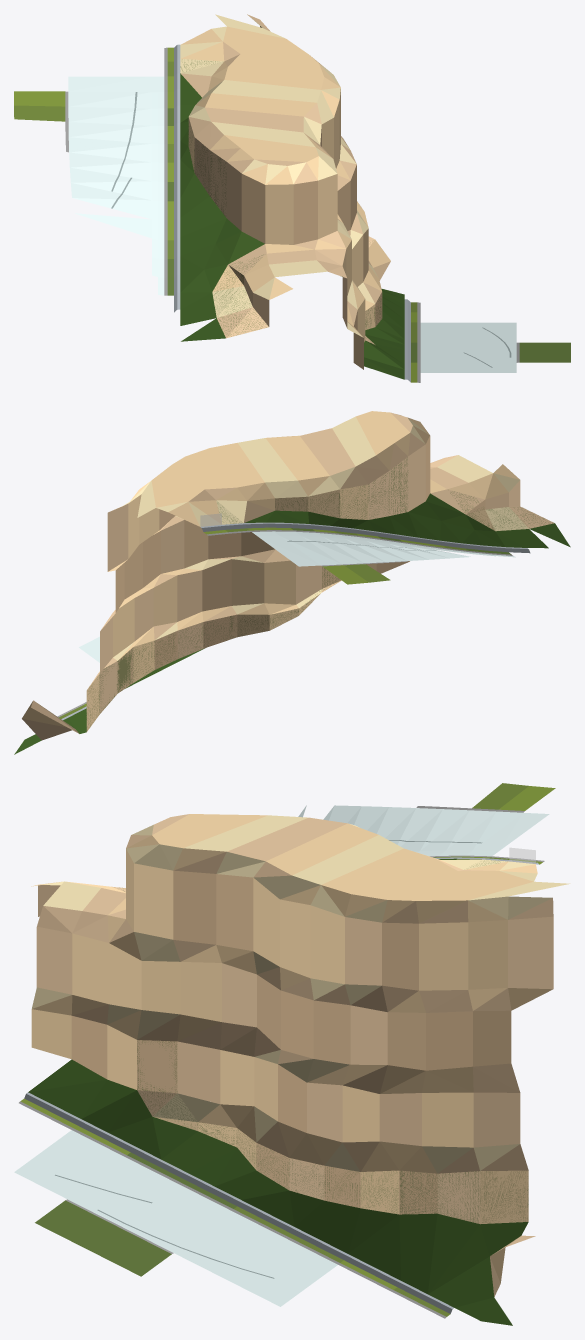
3 renders of one model, top to bottom at view 1: azimuth 30°, elevation 25°; view 2: azimuth 150°, elevation 25°; view 3: azimuth 270°, elevation 25°, orthographic. The views are drawn at different scales.
Parts seen in each view (by area): view 1: O217E0; view 2: O217E0; view 3: O217E0.
Part boxes in pixels (x1,y1,x2,y2): O217E0: (14,14,570,382); O217E0: (14,411,570,754); O217E0: (14,783,570,1325).
Size of the model in its own units: 156 by 103 by 145.
